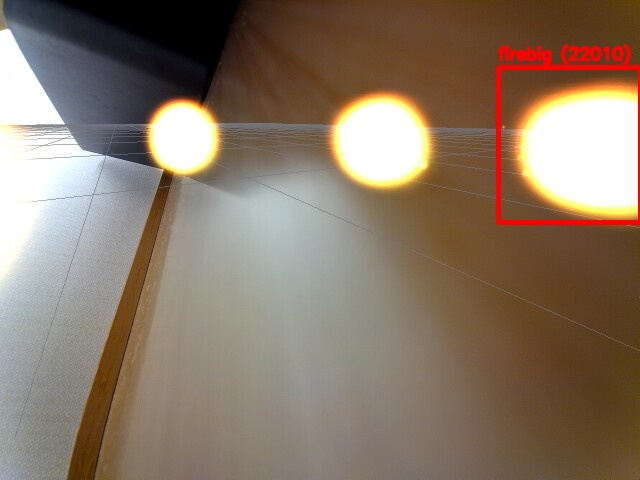firebig: (498, 67, 640, 222)
